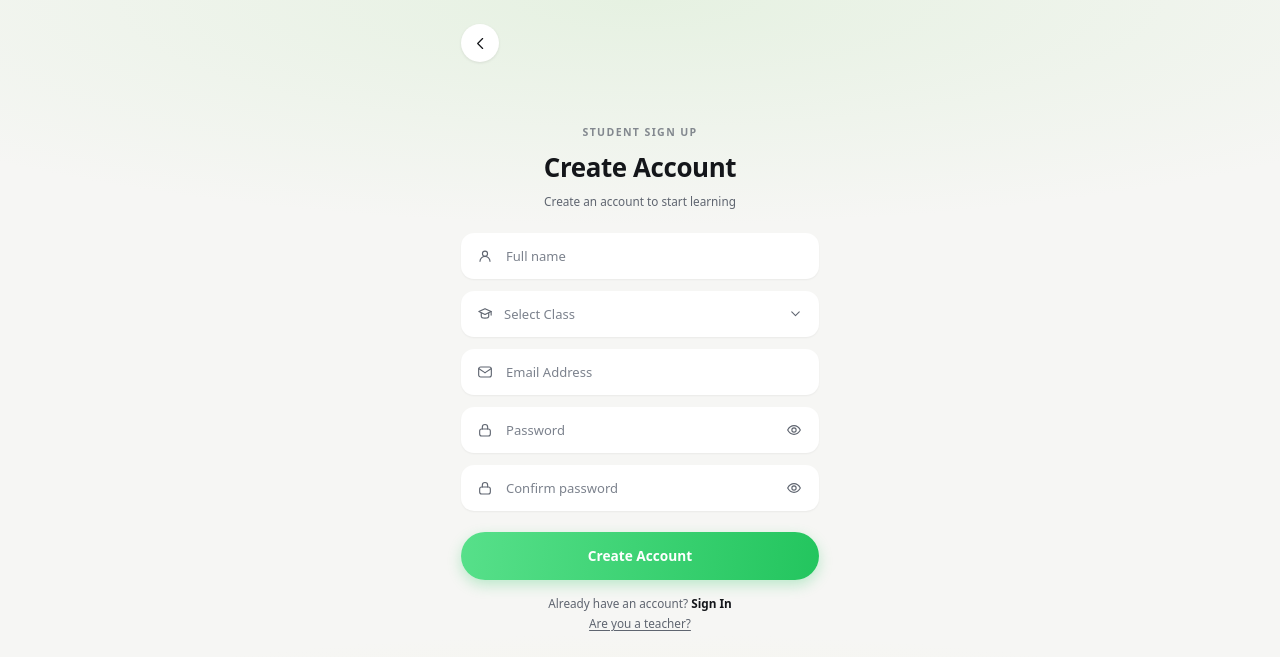
Test case: student registration › surfaces a server rejection, e.g. a taken email
Expected: the text "Student sign up" is shown, [582,125,698,139]
Type "Limon Reza" into the field labelled "Full name" at (654, 256), box [504,234,803,278]
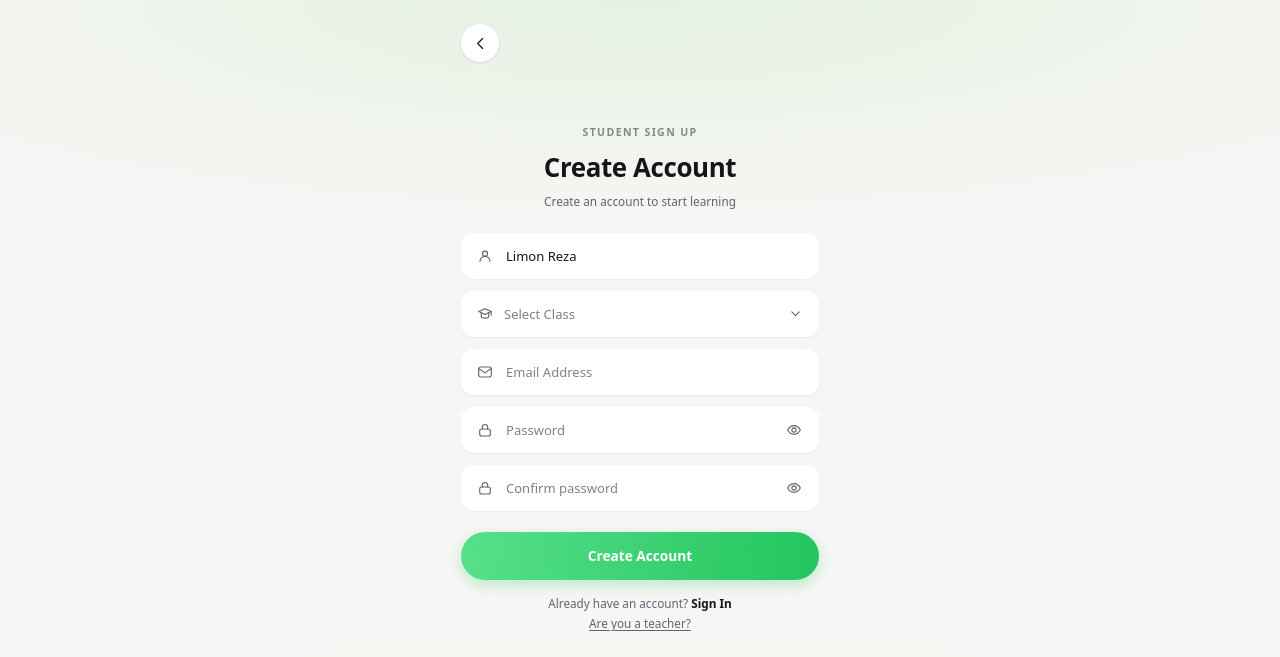
Type "limon@example.local" into the field labelled "Email Address" at (654, 372), box [504,350,803,394]
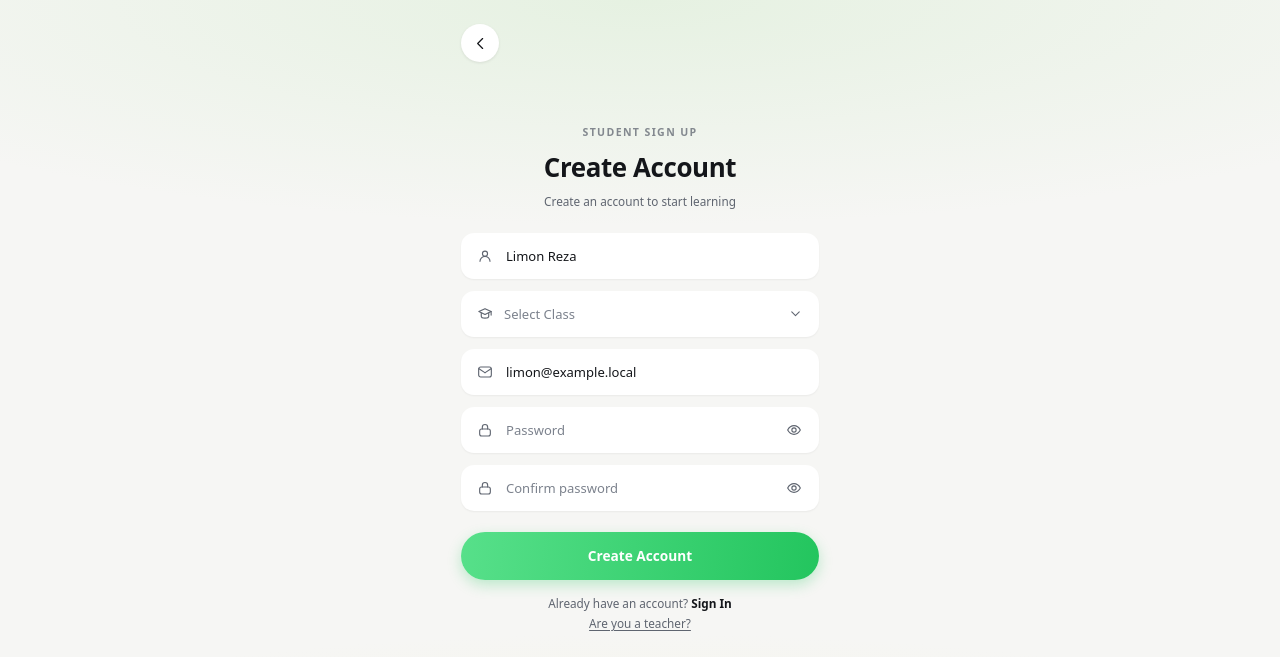
Type "ChangeMe!123" into the password field labelled "Password" at (654, 430), box [504,408,803,452]
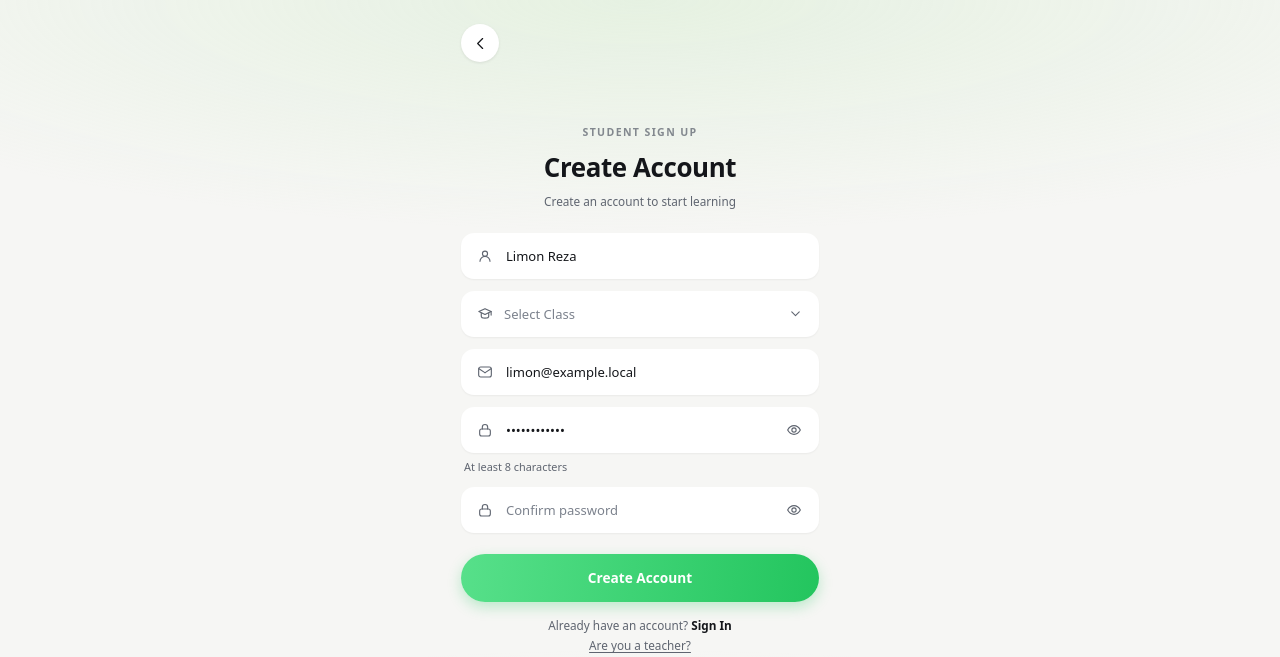
Type "ChangeMe!123" into the password field labelled "Confirm password" at (654, 510), box [504,488,803,532]
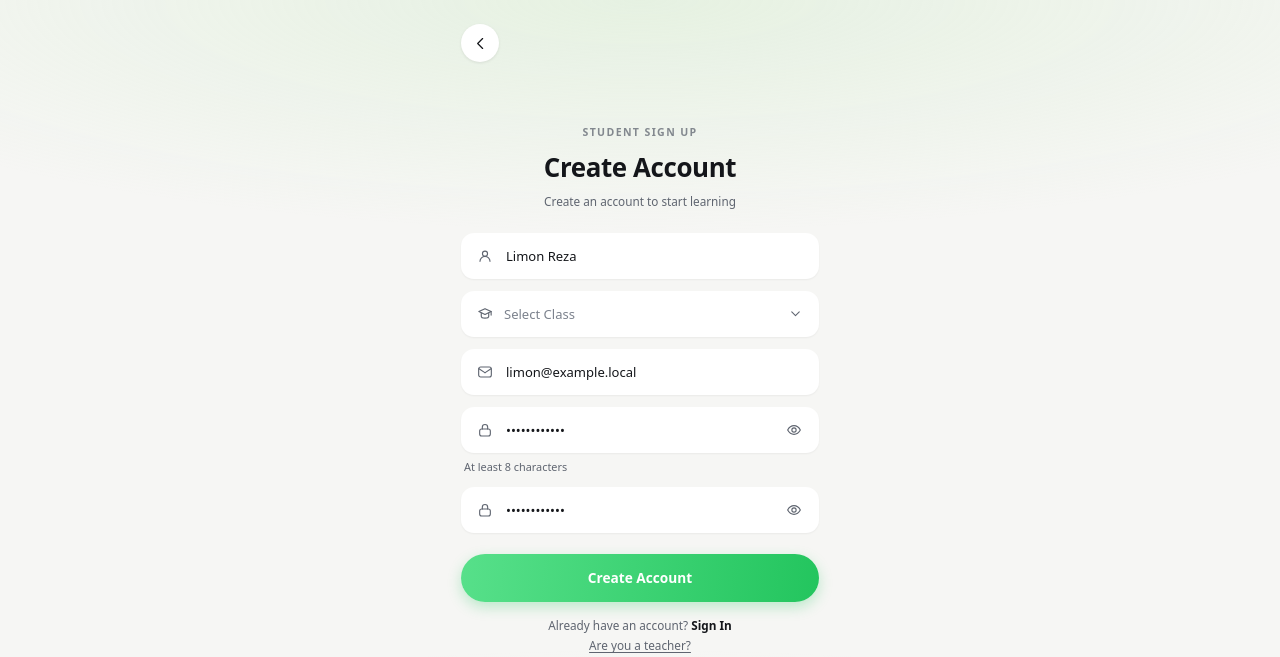
Select "Class 9" in the dropdown named "Class" at (640, 314), box [504,292,777,336]
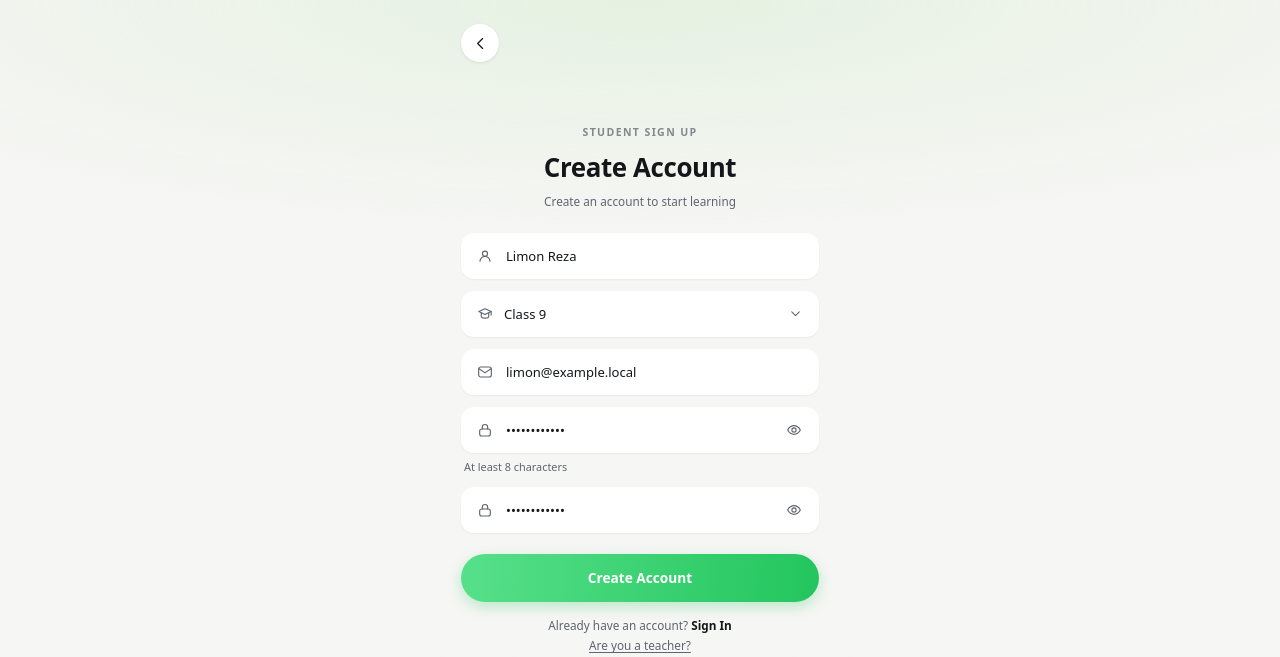
Click the button "Create Account" at (640, 578), box [461,554,819,602]
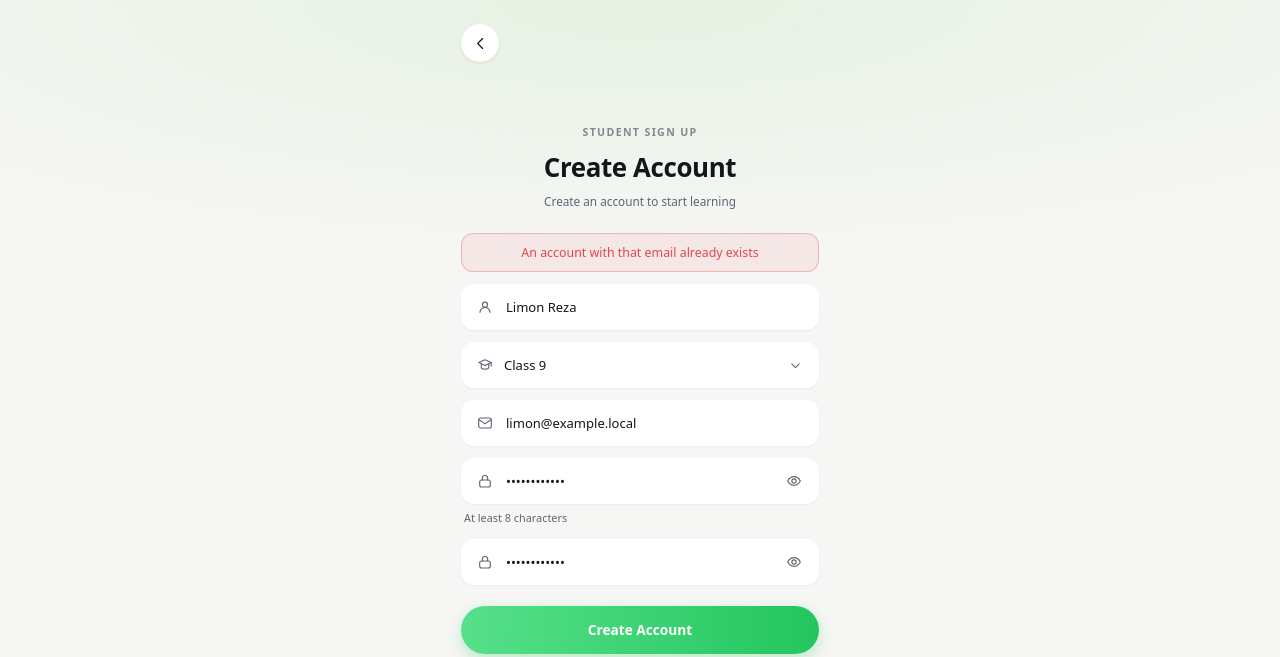
Now the message reads "An account with that email already exists", box [521,244,759,260]
